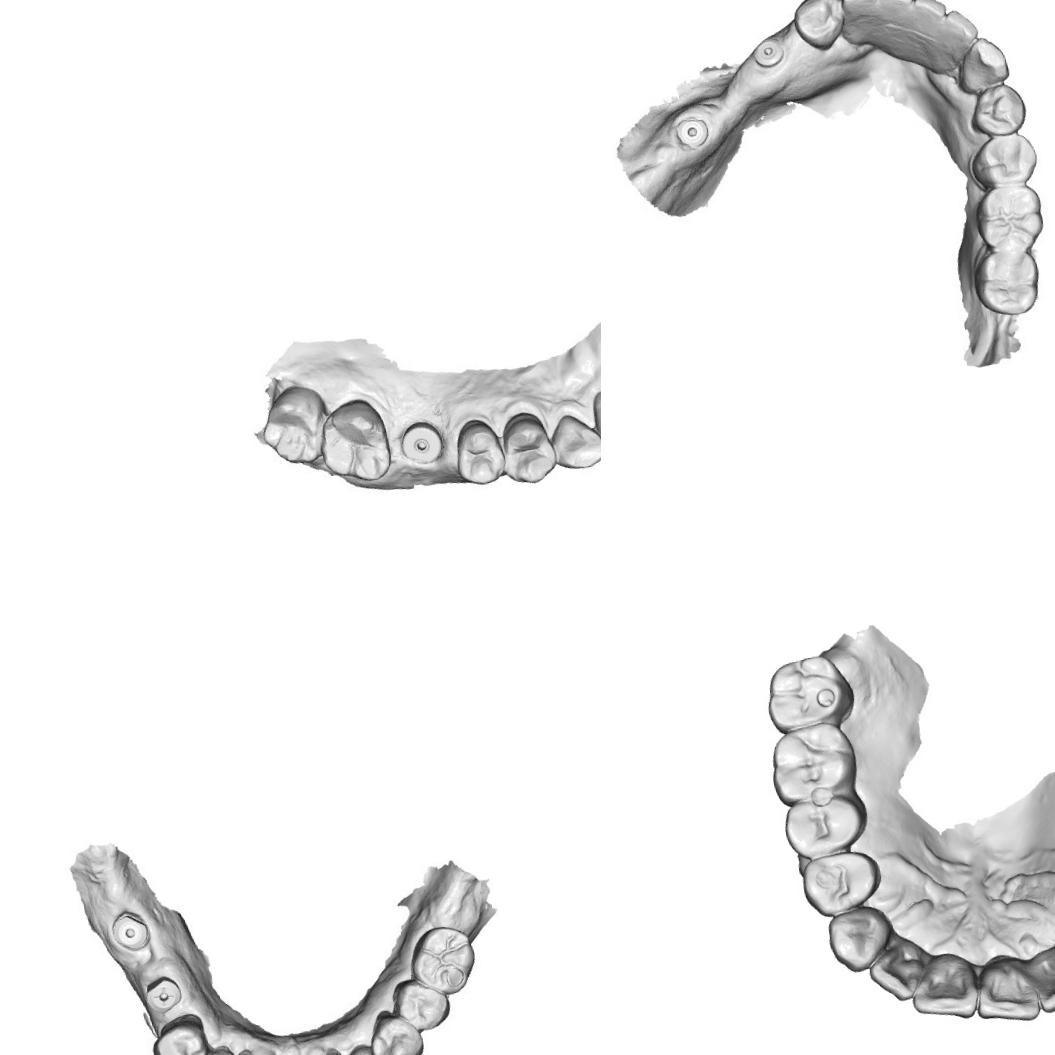canine: (823, 902, 897, 976), (952, 34, 1013, 98), (549, 409, 601, 475), (791, 0, 846, 58)
implant: (105, 906, 158, 956), (398, 419, 445, 468), (672, 108, 708, 151), (754, 34, 791, 72)
implant_plus: (140, 968, 187, 1016)
incisor: (966, 954, 1046, 1030), (906, 955, 986, 1027), (866, 945, 929, 1007), (934, 6, 978, 53), (837, 0, 883, 40), (1030, 954, 1055, 1015), (910, 0, 950, 38), (875, 0, 920, 33)
molar: (762, 718, 864, 808), (758, 649, 858, 735), (313, 392, 396, 488), (253, 381, 330, 470), (970, 243, 1044, 318), (973, 178, 1046, 252), (410, 920, 480, 994)
premolar: (779, 790, 870, 860), (796, 848, 886, 918), (495, 411, 556, 488), (449, 414, 512, 488), (968, 126, 1036, 189), (392, 974, 453, 1035), (968, 82, 1028, 136), (362, 1006, 427, 1055), (149, 1019, 207, 1055)
